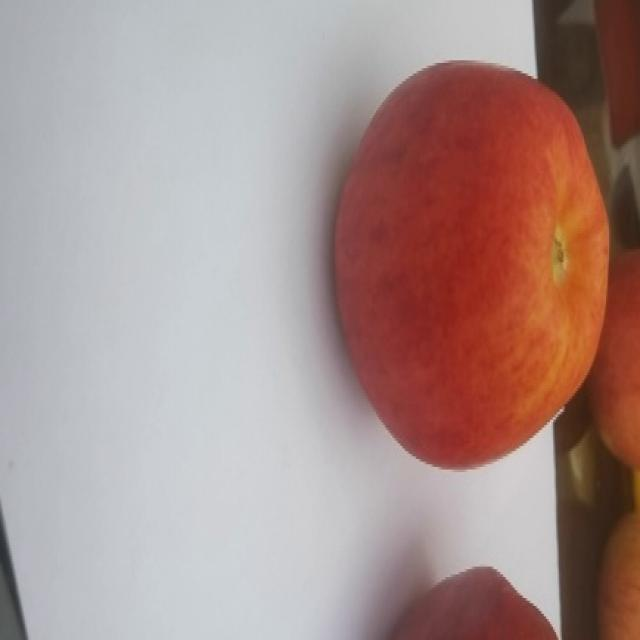Apple: (331, 59, 611, 471), (586, 247, 639, 472)
